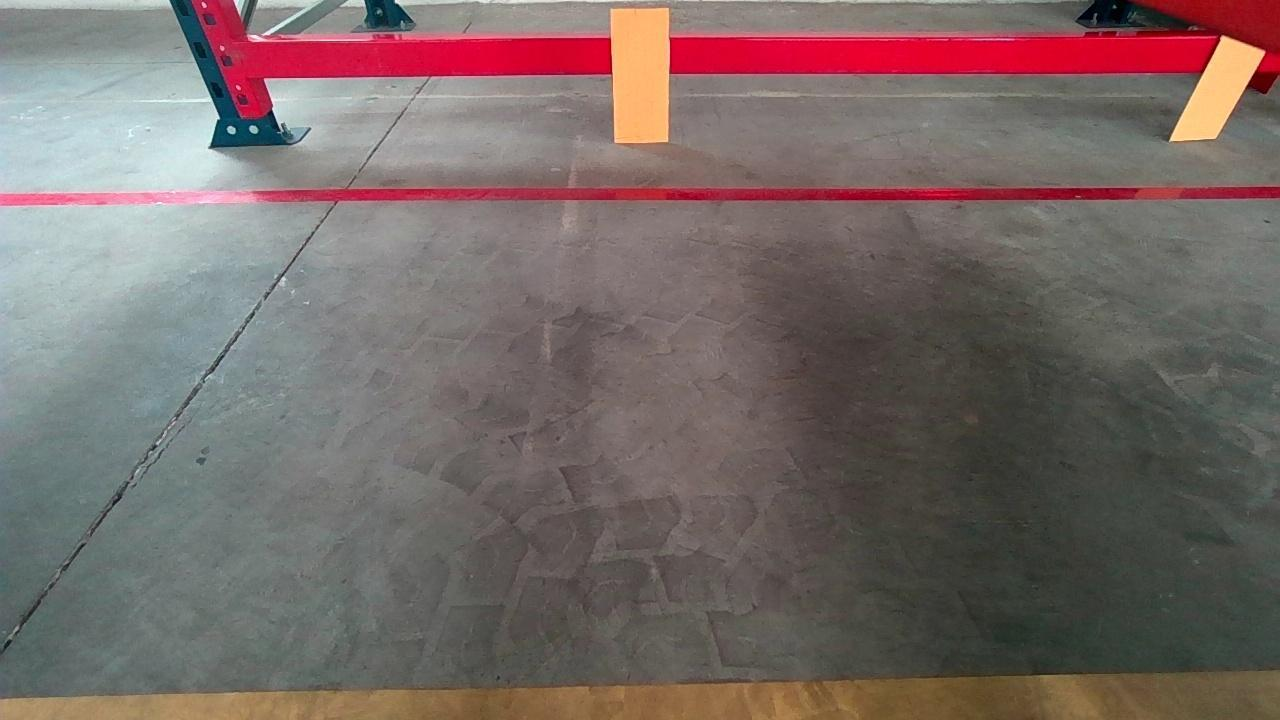h_rack: (235, 34, 1280, 79)
orange_strip: (1171, 37, 1267, 137), (611, 8, 671, 143)
yellow_line: (0, 669, 1280, 720)
